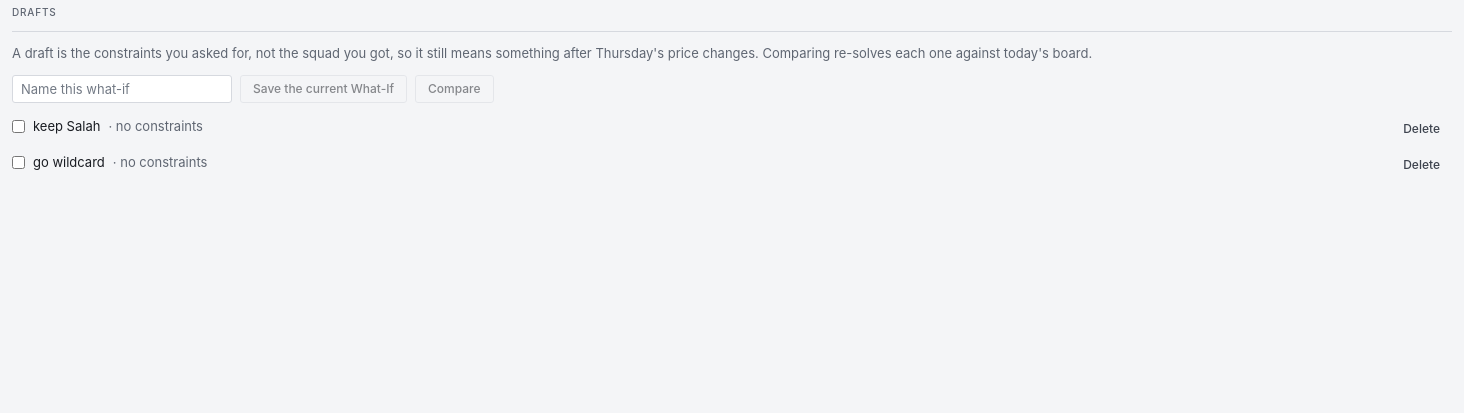
it: DraftsTab › compares the ticked drafts and renders the reference row first
Click the checkbox named "compare keep Salah".
click(18, 126)  # box [12,120,25,133]
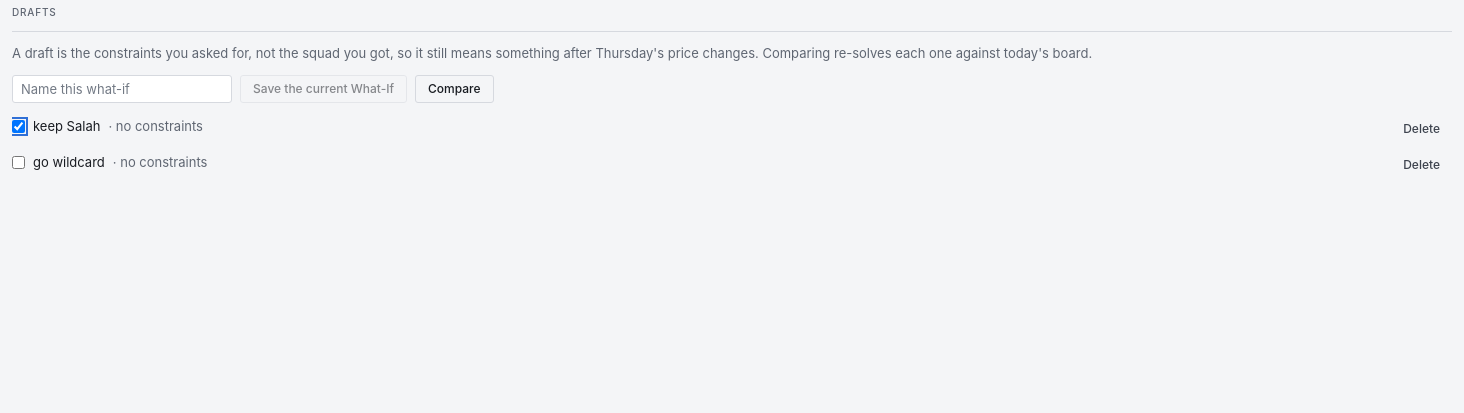
Click the button "Compare".
click(454, 89)  # box [415,75,494,103]
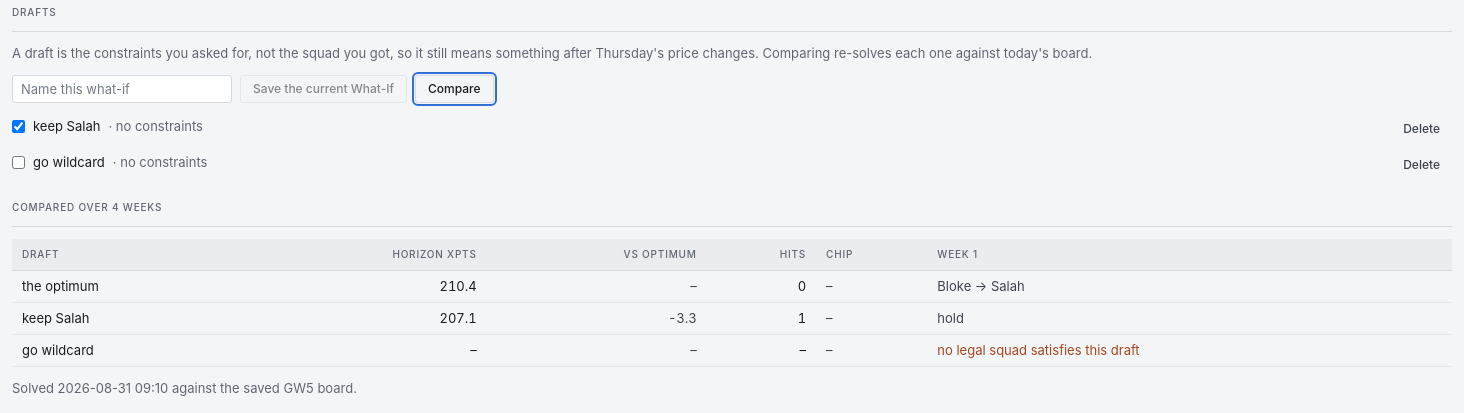
Check: the heading "Compared over 4 weeks" is shown, box [12,200,162,215]
Check: the row "the optimum 210.4 – 0 – Bloke → Salah" is shown, box [12,271,1452,303]
Check: the row "keep Salah 207.1 -3.3 1 – hold" is shown, box [12,303,1452,335]
